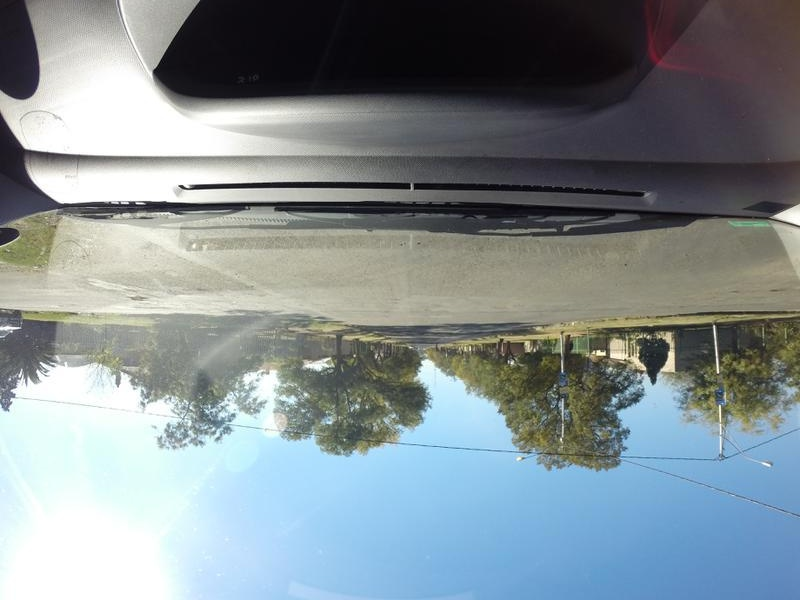pothole: (127, 286, 159, 303)
